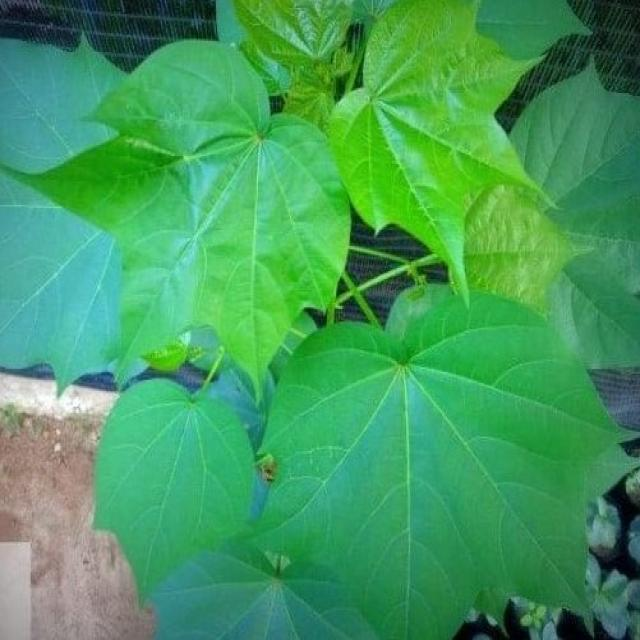Bacterial Blight: (253, 448, 281, 489)
Healthy: (252, 281, 631, 639), (1, 35, 354, 404)
